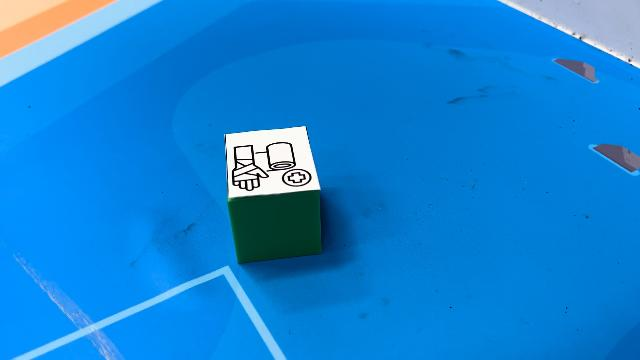bandage: (224, 126, 322, 264)
